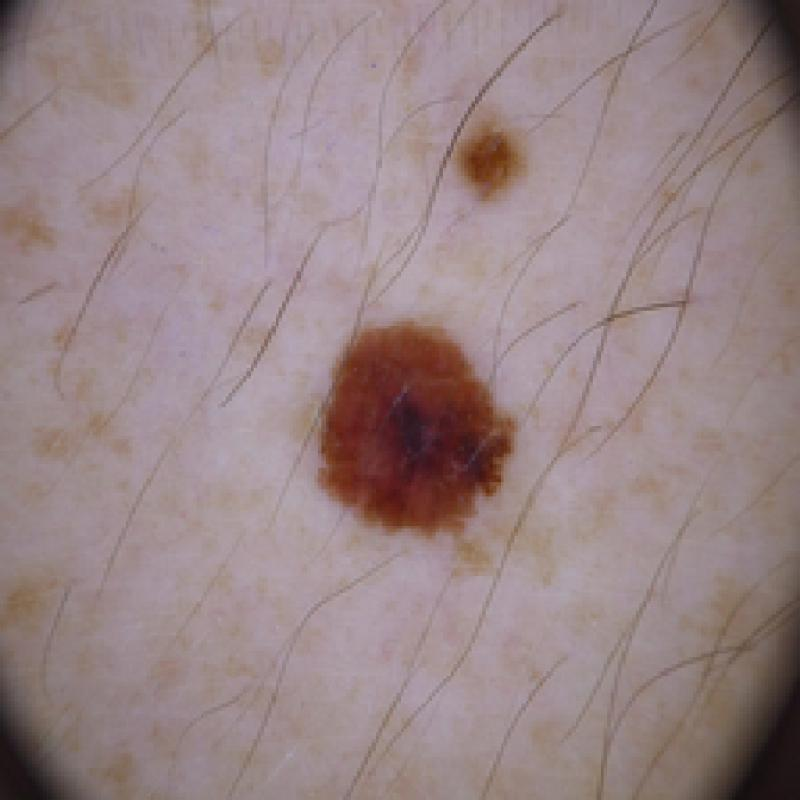benign: (291, 306, 560, 572), (436, 106, 540, 222)
